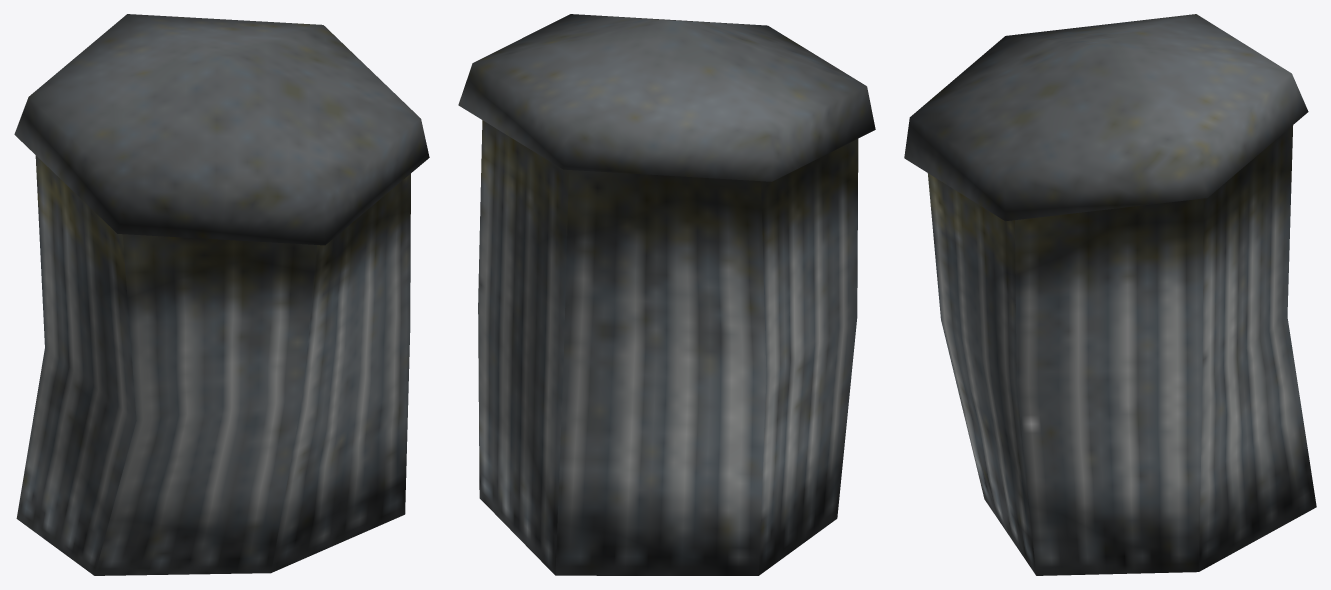
The model's file is trashcan1.fbx.
3 renders of one model, left to right at view 1: azimuth 30°, elevation 25°; view 2: azimuth 150°, elevation 25°; view 3: azimuth 270°, elevation 25°, orthographic. The views are drawn at different scales.
Visible parts, largest first — view 1: trashcan1; view 2: trashcan1; view 3: trashcan1.
Part boxes in pixels (bbox=[...]): trashcan1: bbox=[14, 14, 429, 575]; trashcan1: bbox=[458, 14, 875, 575]; trashcan1: bbox=[904, 14, 1316, 575].
Bounding box in the file's own units: 69.13 × 80.79 × 99.39.
1 material, 1 textured.
